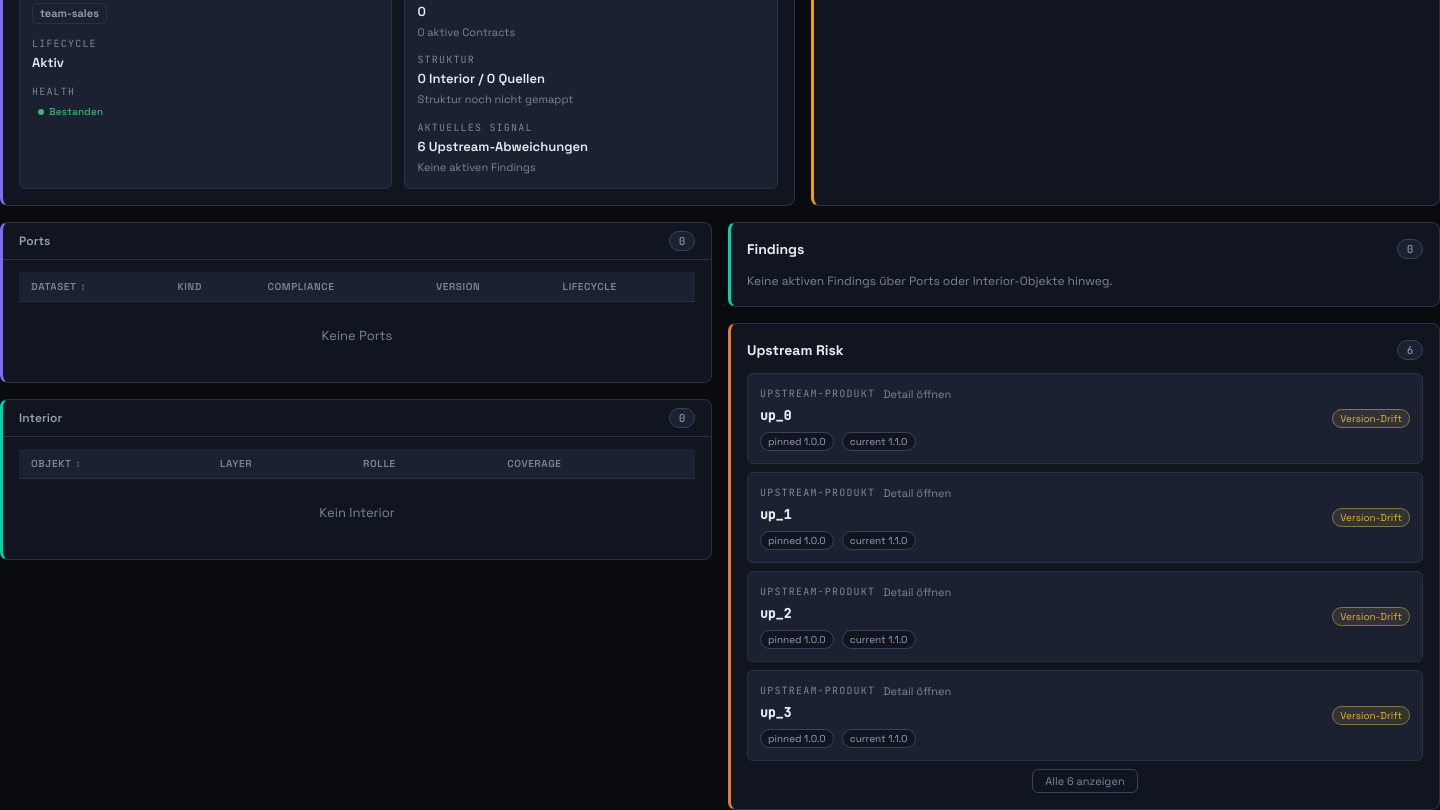
Test: ProductDetail dead-end fixes › reveals hidden upstream-risk entries behind a show-more toggle
The width and height of the screenshot is (1440, 810).
(page scrolled)
Expected: the text "up_3" is shown, top-left (760, 704), bottom-right (791, 721)
Expected: the text "up_4" is not shown
What coordinates should you click on to do the following:
click the button "Alle 6 anzeigen"
I would click on:
 (1085, 781)
Its box is top-left (1032, 769), bottom-right (1138, 793).
(page scrolled)
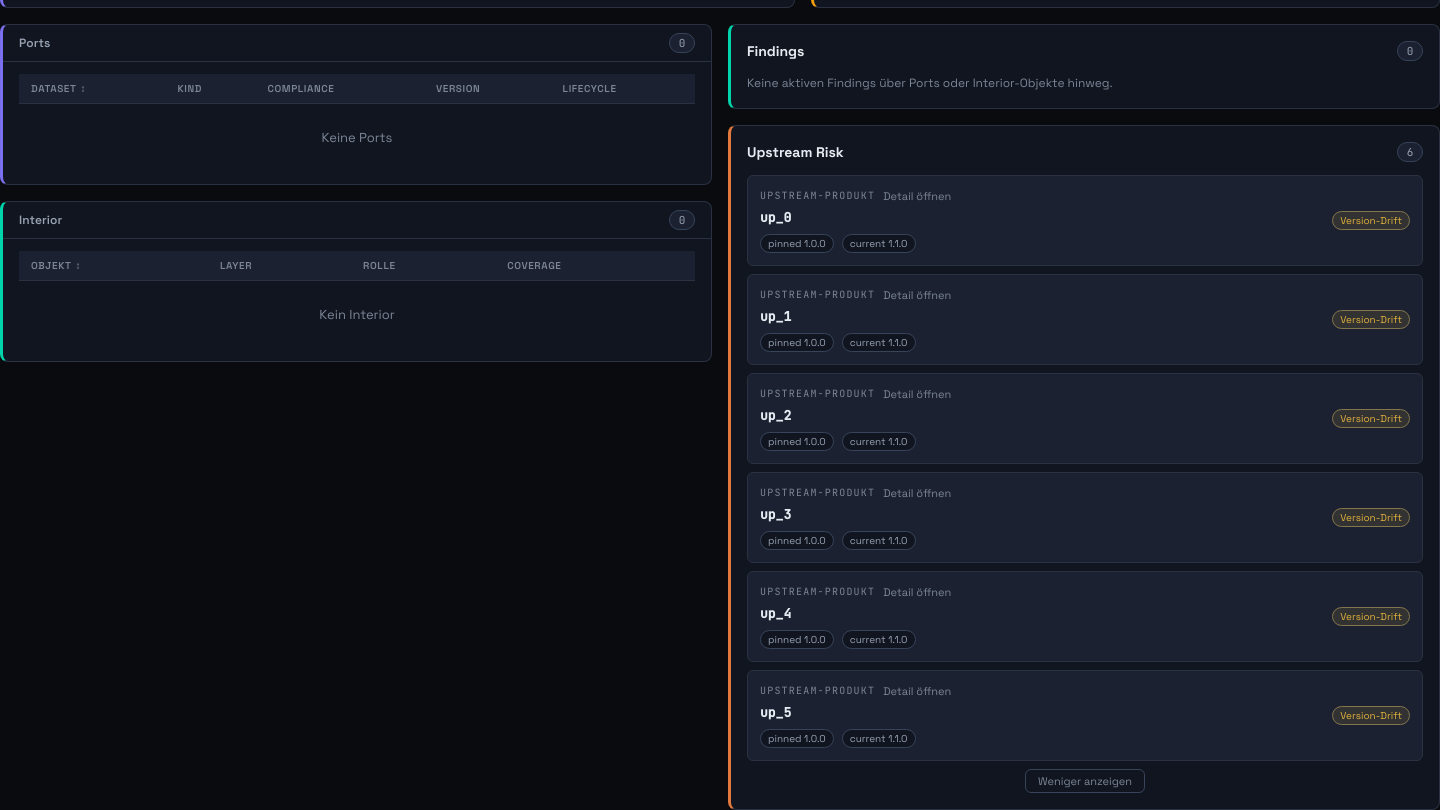
Now the text "up_4" is shown, box top-left (760, 605), bottom-right (791, 622)
Now the text "up_5" is shown, box top-left (760, 704), bottom-right (791, 721)
What coordinates should you click on to do the following:
click the button "Weniger anzeigen"
I would click on:
 (1085, 781)
Its box is top-left (1025, 769), bottom-right (1145, 793).
(page scrolled)
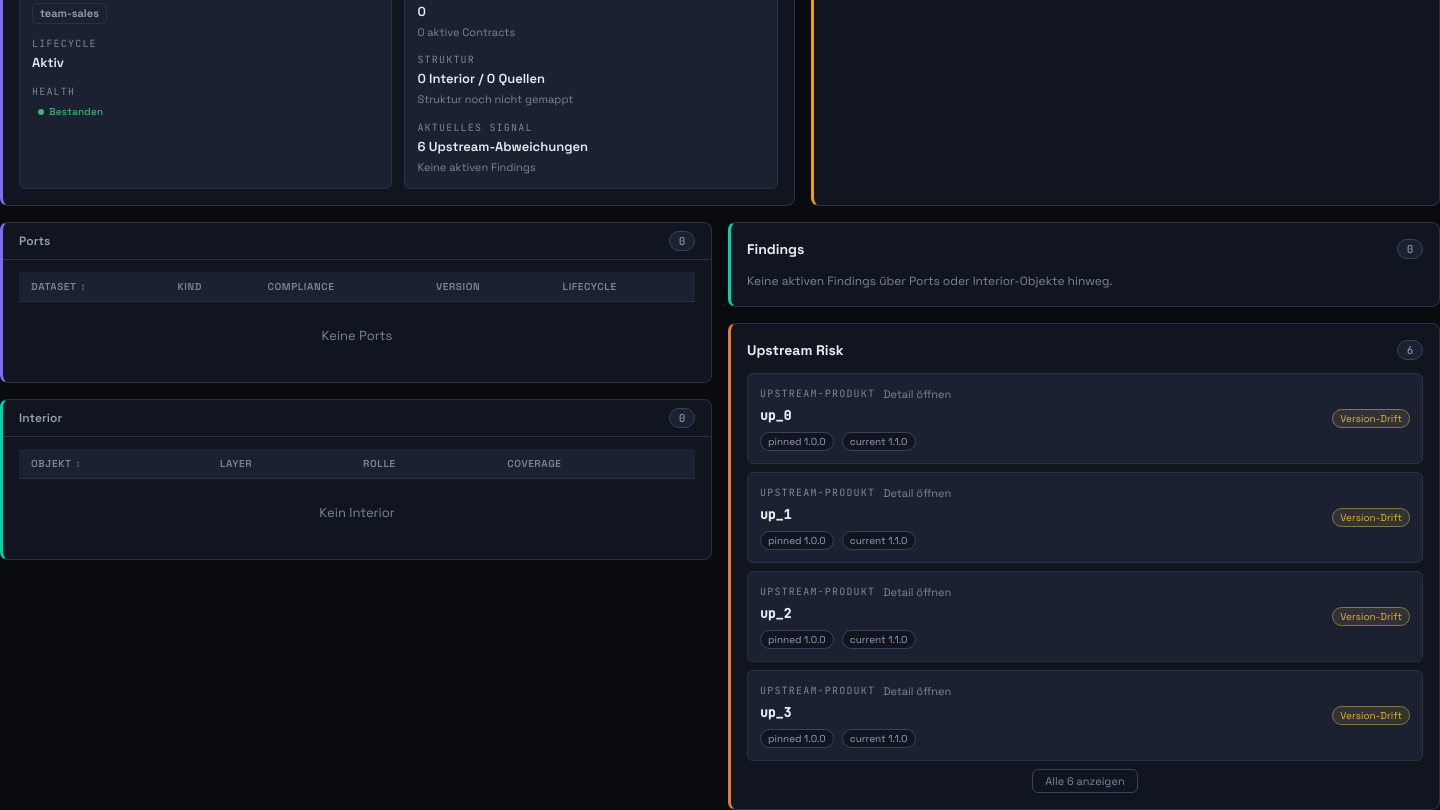
Now the link "up_4" is gone
